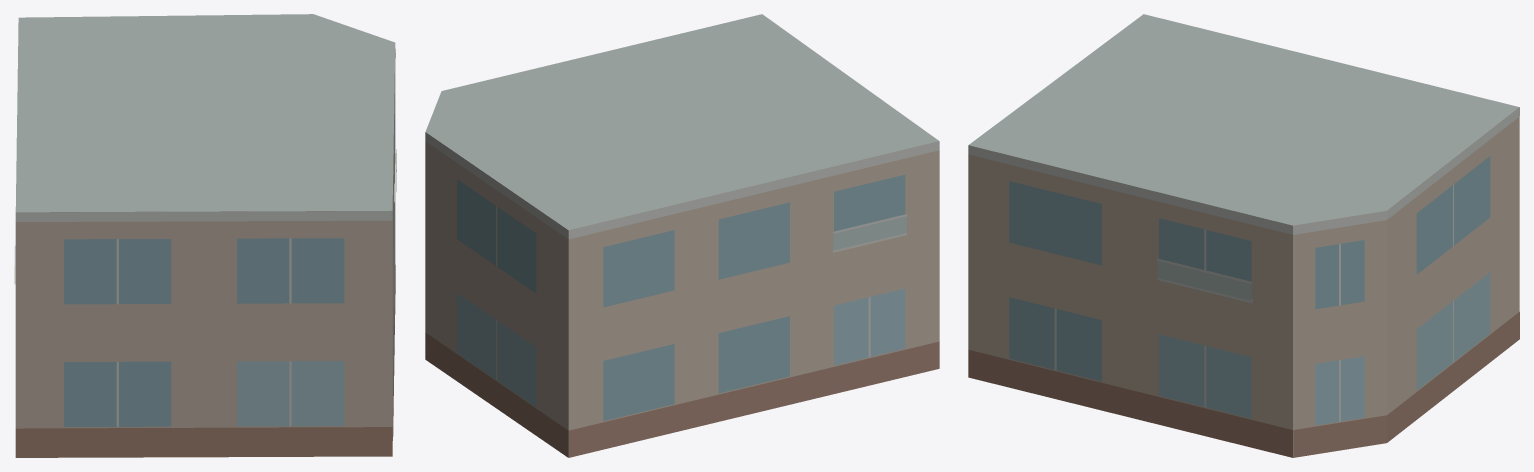
Rendered from survey-upis-32906790.glb.
The picture shows the model from 3 angles, left to right: view 1: azimuth 30°, elevation 25°; view 2: azimuth 150°, elevation 25°; view 3: azimuth 270°, elevation 25°; orthographic projection. The views are drawn at different scales.
Visible parts, largest first — view 1: survey-upis-32906790.tmp; view 2: survey-upis-32906790.tmp; view 3: survey-upis-32906790.tmp.
Part boxes in pixels (left/top/right/bottom): survey-upis-32906790.tmp: left=14, top=14, right=396, bottom=457; survey-upis-32906790.tmp: left=425, top=14, right=939, bottom=457; survey-upis-32906790.tmp: left=968, top=14, right=1519, bottom=457.
Size of the model in its own units: 11.93 by 6.1 by 13.13.
